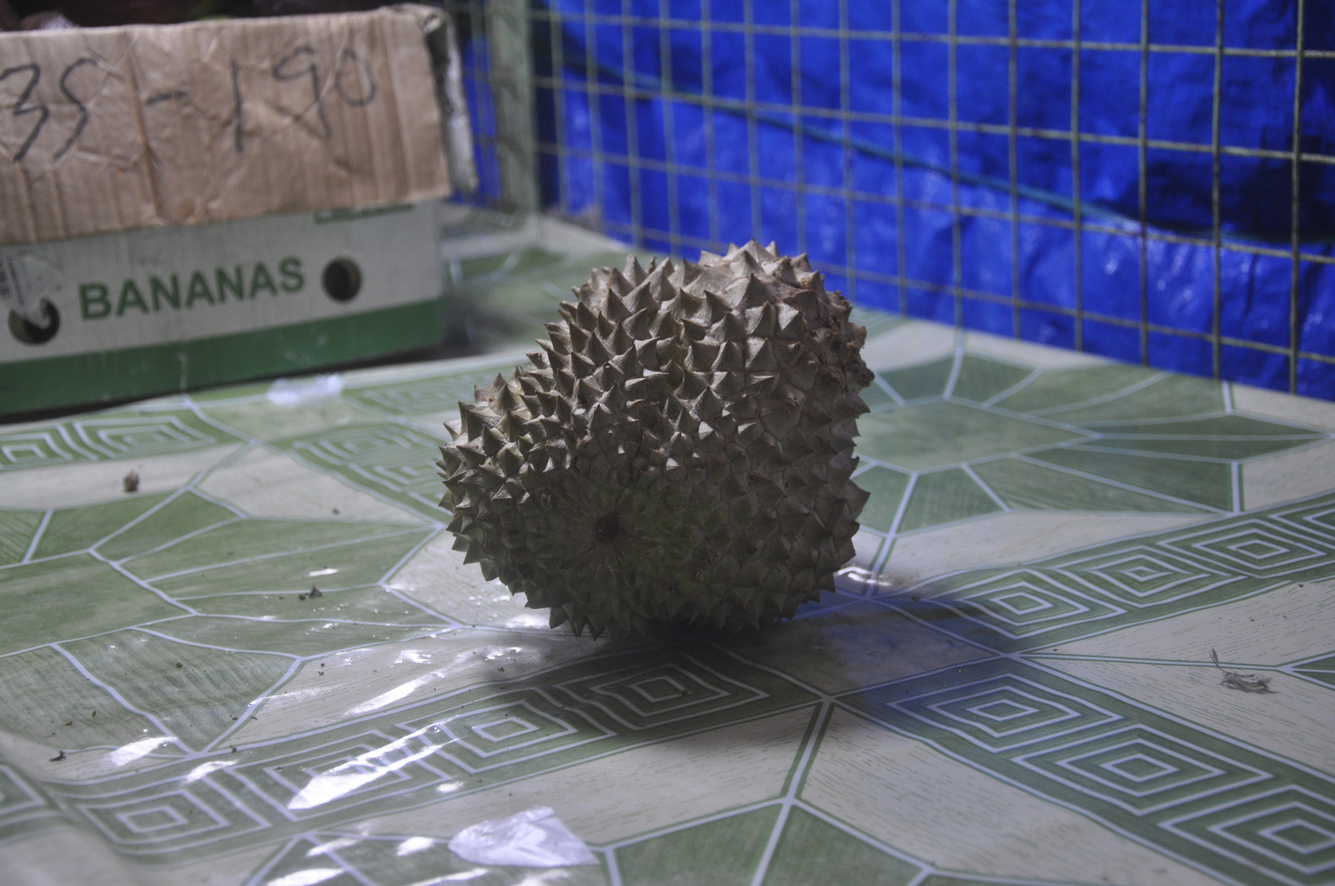mature: (437, 241, 874, 642)
